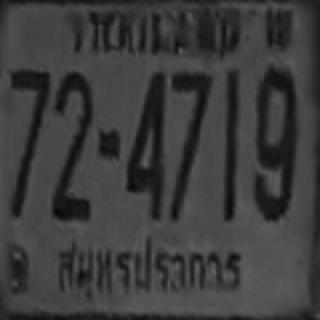N02: (50, 73, 95, 219)
N04: (126, 71, 166, 221)
N07: (170, 71, 212, 220), (9, 68, 49, 215)
N09: (252, 64, 295, 219)
P57: (55, 230, 246, 304)
